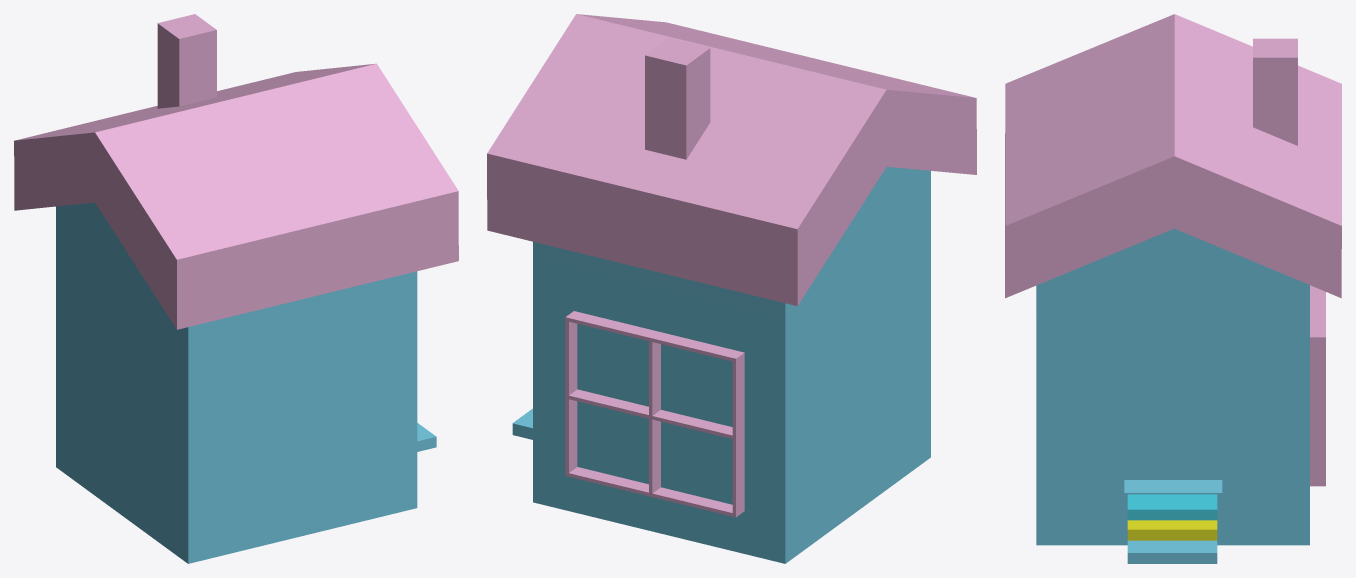
File: NO kiretu .fbx
The picture shows the model from 3 angles, left to right: view 1: azimuth 30°, elevation 25°; view 2: azimuth 150°, elevation 25°; view 3: azimuth 270°, elevation 25°; orthographic projection. The views are drawn at different scales.
Visible parts, largest first — view 1: Cube, Cube.001, Cube.010; view 2: Cube, Cube.001, Cube.009, Cube.010; view 3: Cube, Cube.001, Cube.010, Cube.009, Cube.003, Cube.005, Cube.004.
Boxes of the visible parts, left/top/right/bottom form: Cube: left=56, top=202, right=417, bottom=563; Cube.001: left=14, top=63, right=458, bottom=329; Cube.010: left=157, top=14, right=216, bottom=108; Cube: left=533, top=166, right=930, bottom=563; Cube.001: left=487, top=14, right=976, bottom=306; Cube.009: left=565, top=311, right=744, bottom=517; Cube.010: left=645, top=38, right=710, bottom=159; Cube: left=1036, top=228, right=1309, bottom=545; Cube.001: left=1005, top=14, right=1341, bottom=298; Cube.010: left=1253, top=38, right=1297, bottom=145; Cube.009: left=1310, top=285, right=1325, bottom=486; Cube.003: left=1127, top=494, right=1217, bottom=520; Cube.005: left=1127, top=540, right=1217, bottom=563; Cube.004: left=1127, top=520, right=1217, bottom=540.
Size of the model in its own units: 278 by 355 by 246.
